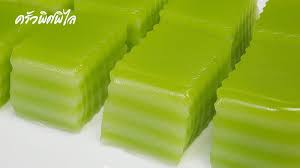kanomchan: (105, 15, 240, 168), (6, 13, 132, 140), (212, 19, 299, 168)
